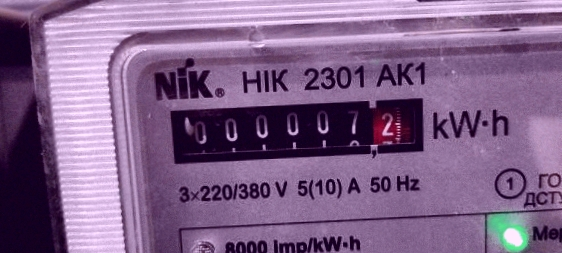0: (252, 112, 271, 140), (222, 115, 240, 144), (191, 118, 209, 146), (314, 107, 331, 136), (284, 109, 300, 137)
2: (379, 109, 396, 139)
7: (344, 108, 361, 137)
screen: (162, 89, 437, 170)
